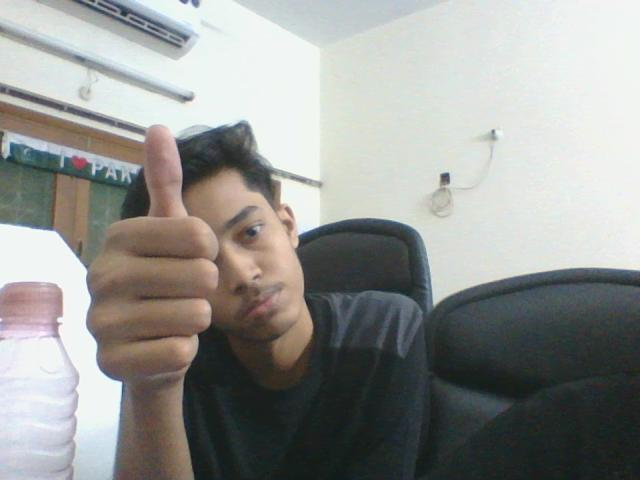thumbs-up: (83, 124, 223, 386)
